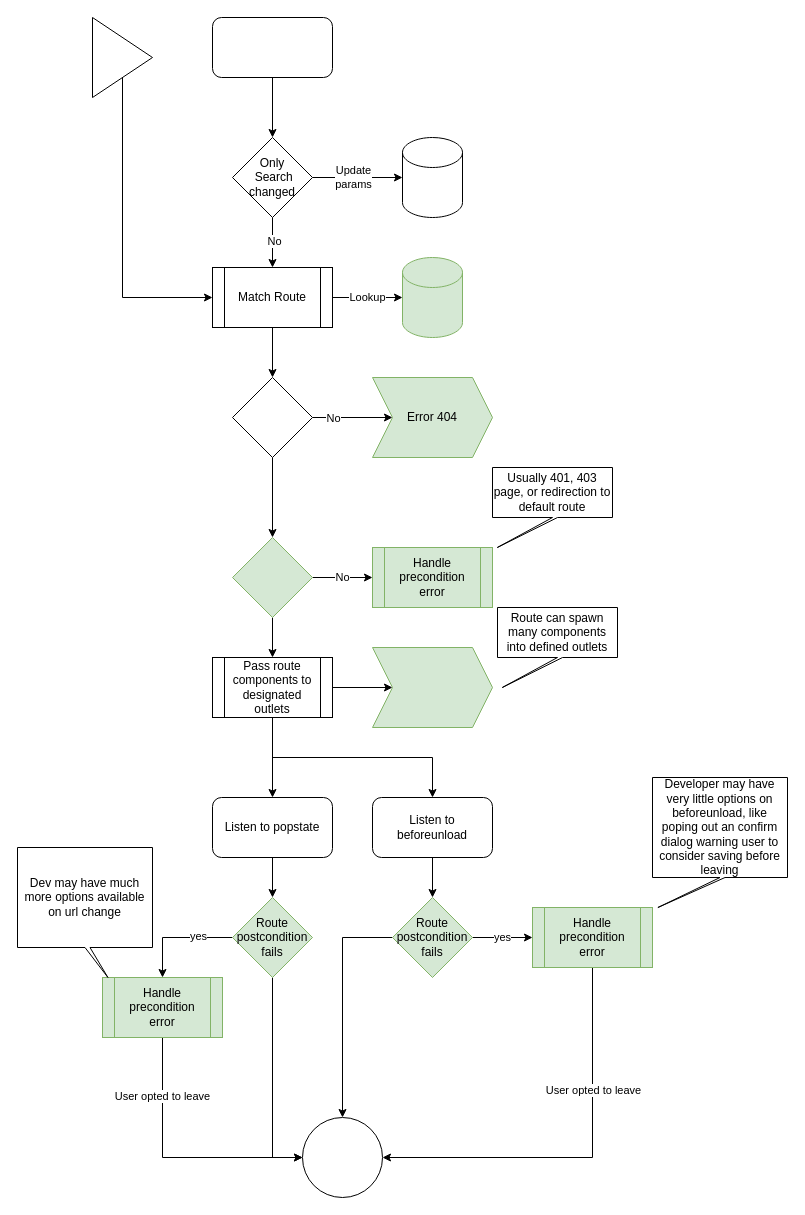
This 805x1215 diagram has some shape labels left out. Each missing label, with the centre of its shape:
Current route: the point at 432,177
Detect url/search change: the point at 272,47
Render route Components: the point at 432,687
Route Definitions: the point at 432,297
Route maches: the point at 272,417
Route precondition fails: the point at 272,577
Start: the point at 122,57
User left: the point at 342,1157
